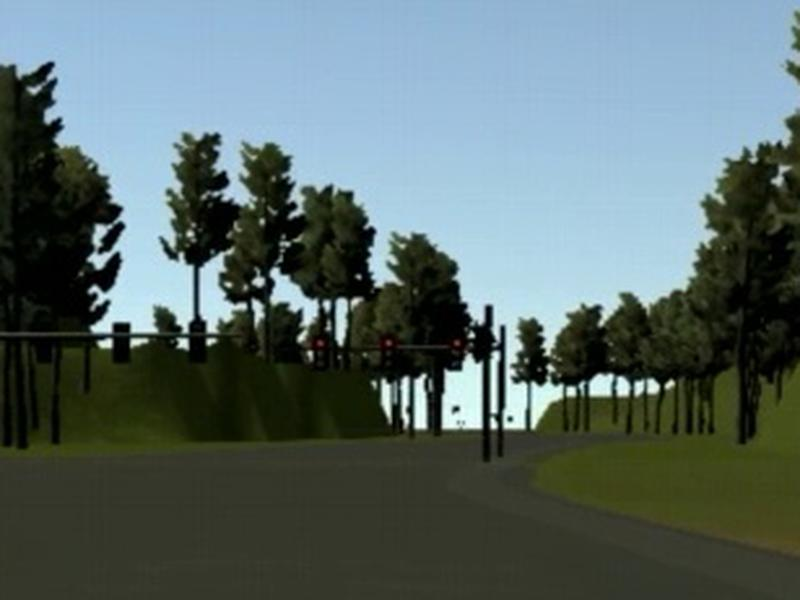Red: (382, 334, 397, 370), (448, 335, 462, 372), (314, 337, 328, 372)
